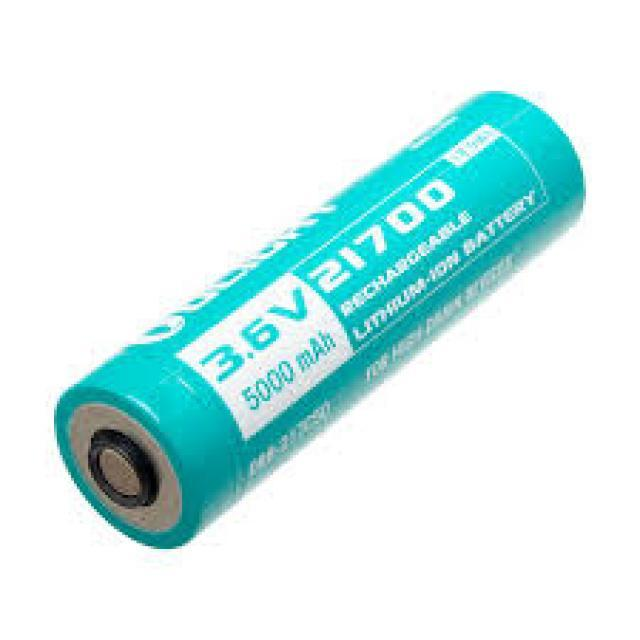battery: (52, 90, 590, 550)
